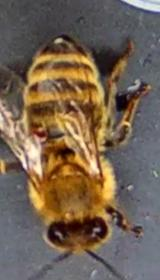varroa_mite: (20, 116, 56, 143)
